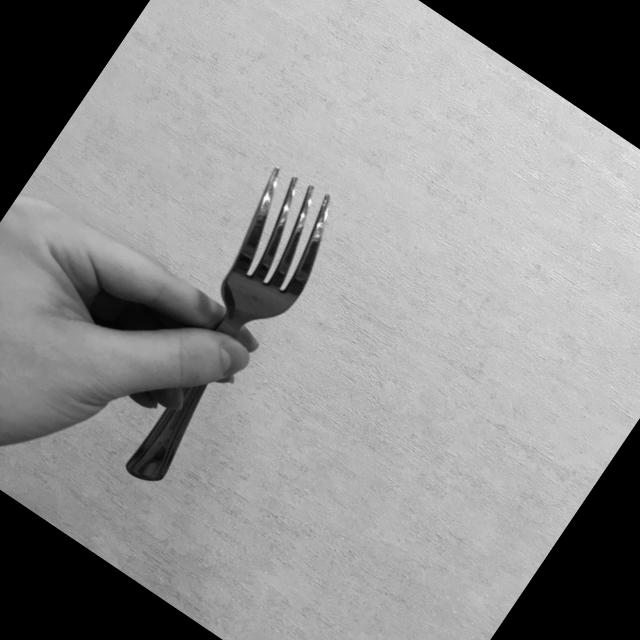fork: (84, 156, 360, 499)
